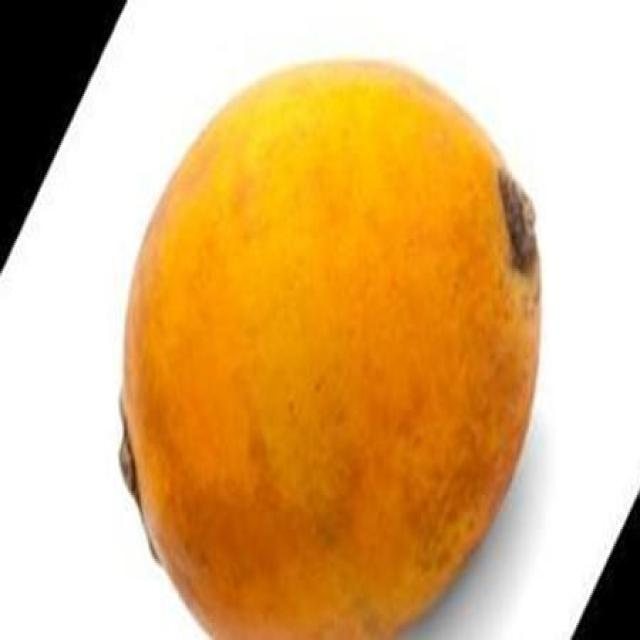good: (119, 60, 543, 638)
